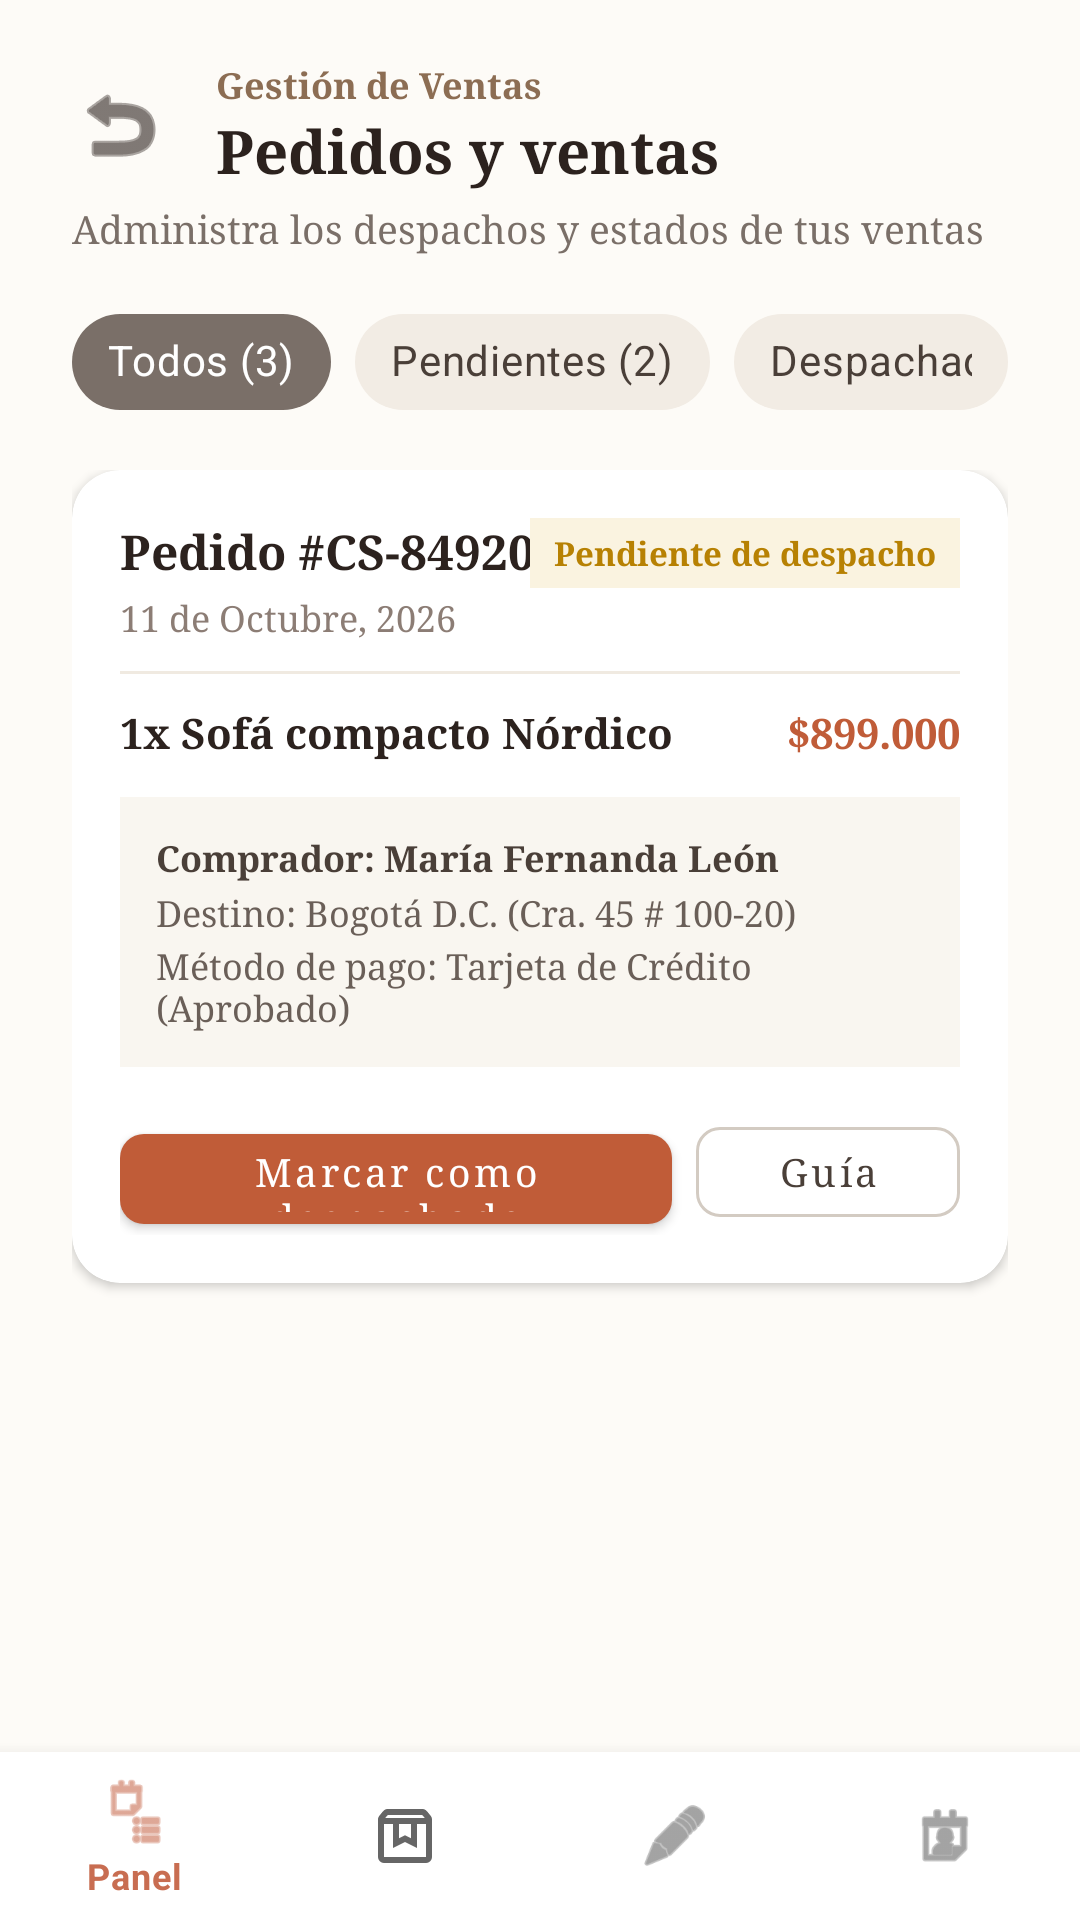

Where icons sit on this 1080 x 1920 app screen, as (x1, y1, x2, y2):
Volver al inicio: (87, 94, 156, 157)
